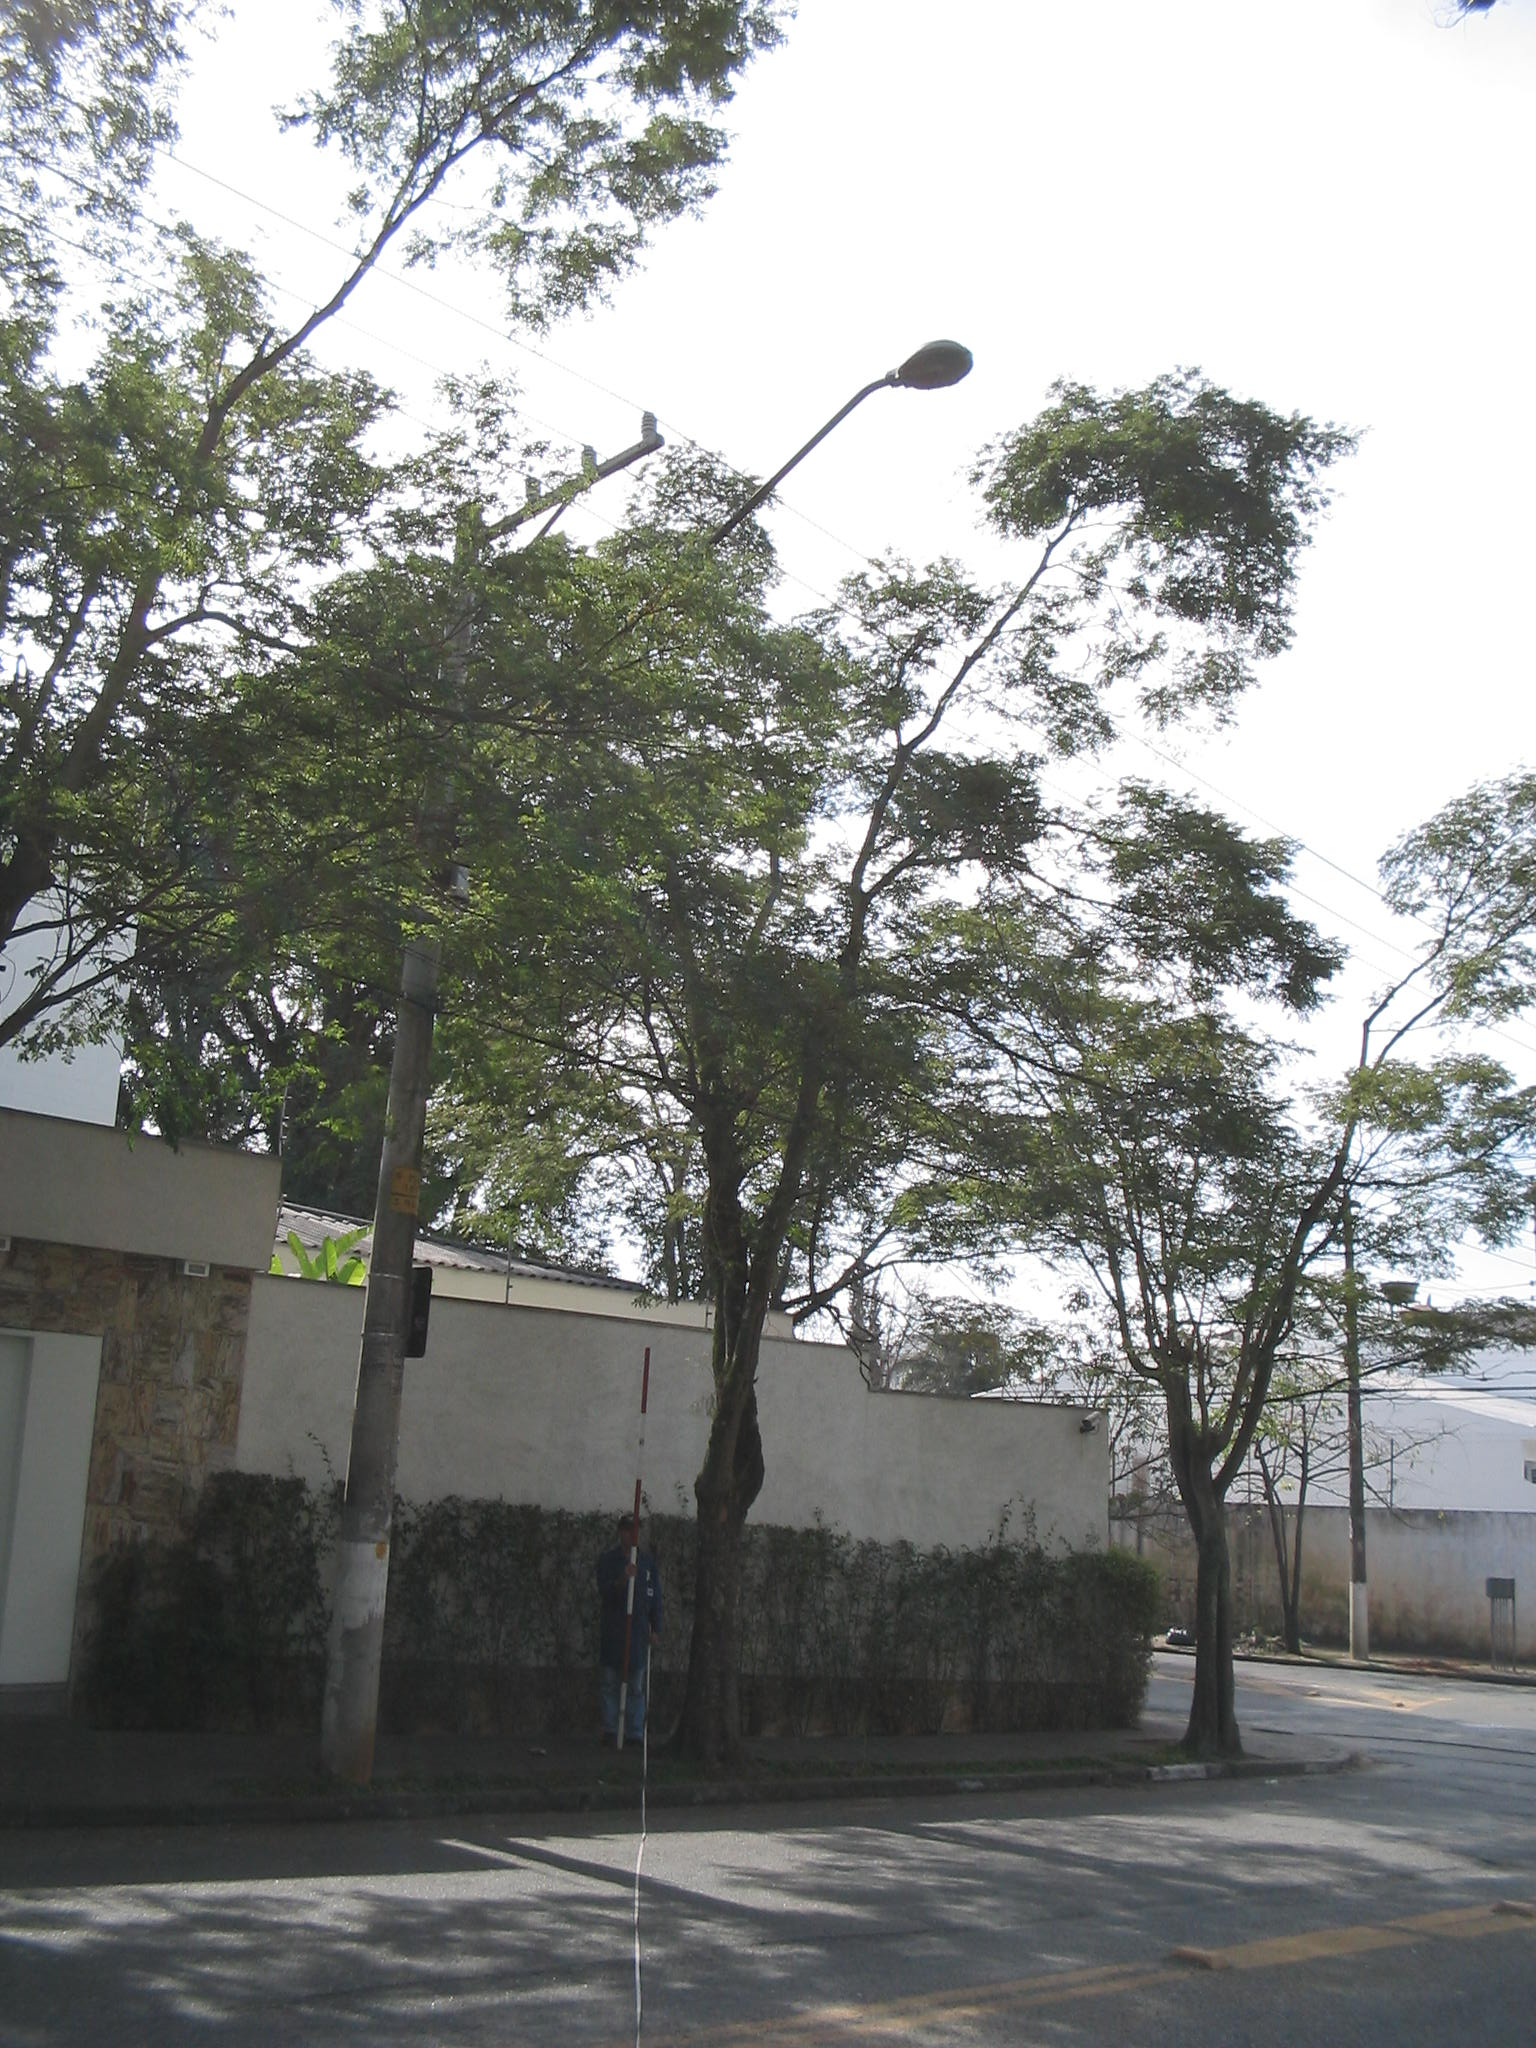crown: (303, 371, 1354, 1158), (870, 787, 1533, 1445)
stem: (665, 1471, 792, 1758), (1142, 1516, 1283, 1755)
stick: (599, 1347, 682, 1750)
tree: (294, 363, 1365, 1761), (865, 782, 1536, 1758)
